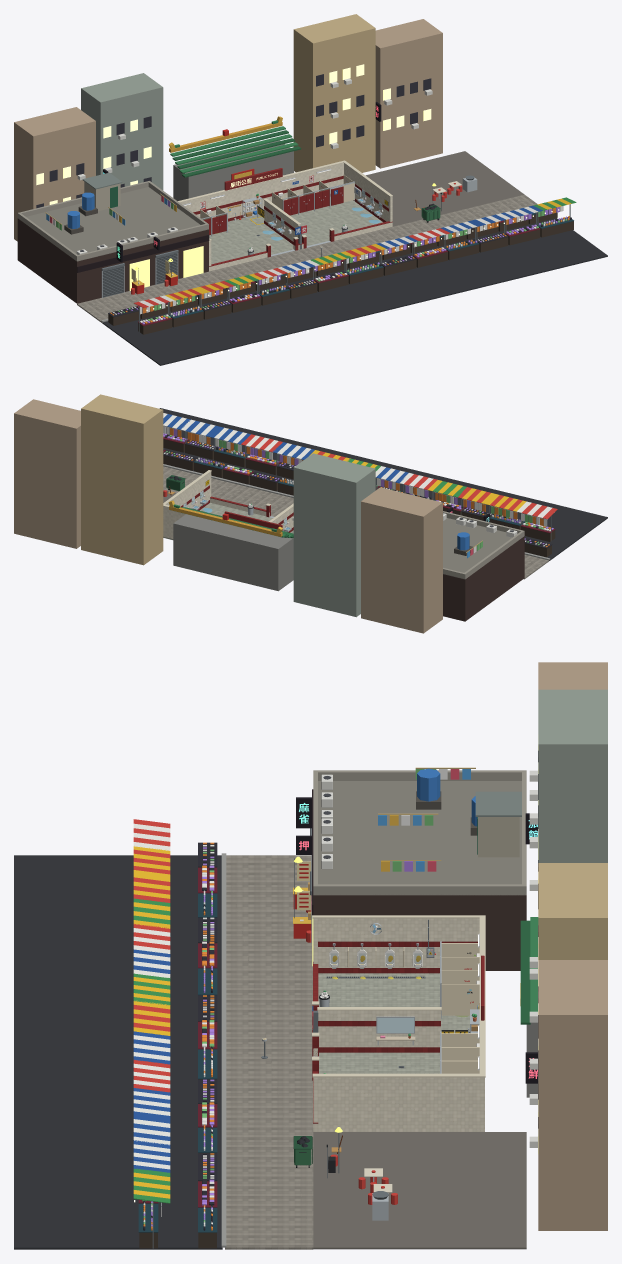
File: level_temple.glb
3 views of the same model, one above another, from view 1: azimuth 30°, elevation 25°; view 2: azimuth 150°, elevation 25°; view 3: azimuth 270°, elevation 25° (orthographic). The views are drawn at different scales.
Visible parts, largest first — view 1: neighbours, street, stalls, walls, floor, stall_partitions, decor, signage; view 2: neighbours, stalls, street, walls, floor, decor, signage; view 3: neighbours, street, walls, stalls, floor, stall_partitions, decor.
Part boxes in pixels (<box>): neighbours: <box>14,14,524,303</box>; street: <box>77,194,607,365</box>; stalls: <box>108,197,576,334</box>; walls: <box>178,160,392,271</box>; floor: <box>209,197,382,264</box>; stall_partitions: <box>200,175,354,236</box>; decor: <box>183,168,440,257</box>; signage: <box>224,168,306,249</box>; neighbours: <box>14,394,524,633</box>; stalls: <box>163,413,557,557</box>; street: <box>159,408,607,579</box>; walls: <box>163,470,293,538</box>; floor: <box>163,502,293,539</box>; decor: <box>166,475,293,520</box>; signage: <box>224,511,282,530</box>; neighbours: <box>293,662,607,1249</box>; street: <box>14,853,313,1249</box>; walls: <box>312,915,485,1131</box>; stalls: <box>133,819,217,1248</box>; floor: <box>318,973,469,1073</box>; stall_partitions: <box>440,941,479,1073</box>; decor: <box>261,923,479,1167</box>.
Size of the model in its own units: 40.18 by 12.18 by 25.6.
Materials: 152 (4 with a texture image).
